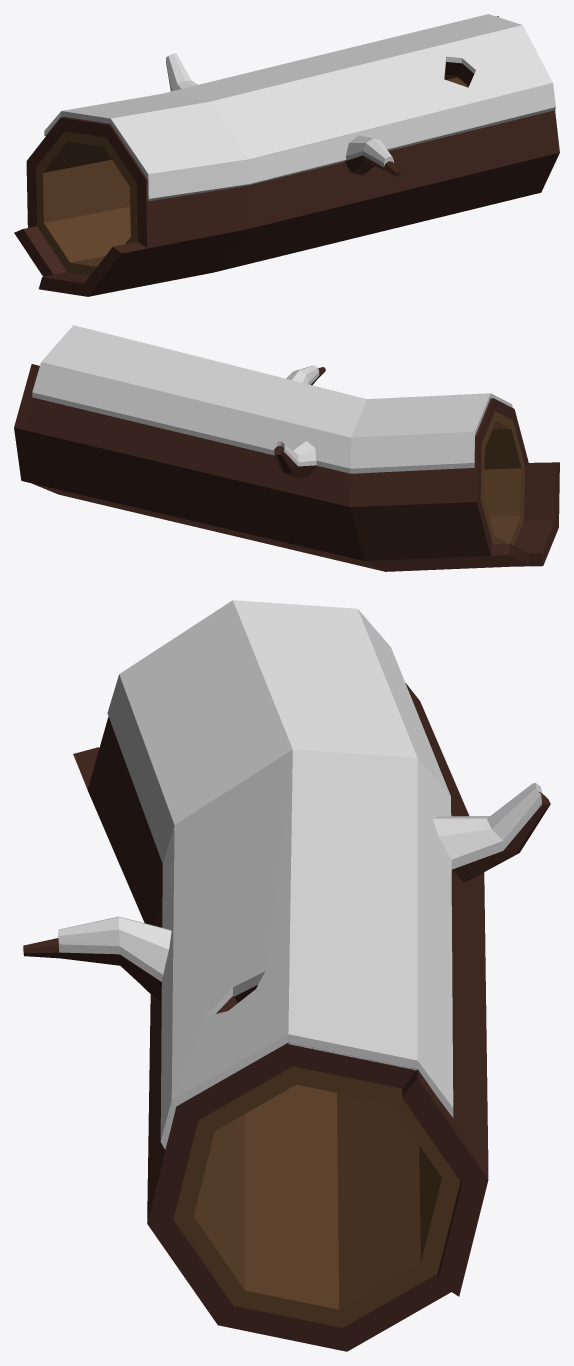
The model's file is Wood.fbx.
The picture shows the model from 3 angles, top to bottom: view 1: azimuth 30°, elevation 25°; view 2: azimuth 150°, elevation 25°; view 3: azimuth 270°, elevation 25°; orthographic projection. The views are drawn at different scales.
Parts seen in each view (by area): view 1: Wood; view 2: Wood; view 3: Wood.
Boxes of the visible parts, x1,y1,x2,y2 form: Wood: (14,14,559,296); Wood: (14,325,559,571); Wood: (23,600,550,1351).
Size of the model in its own units: 153 by 55.39 by 74.01.
